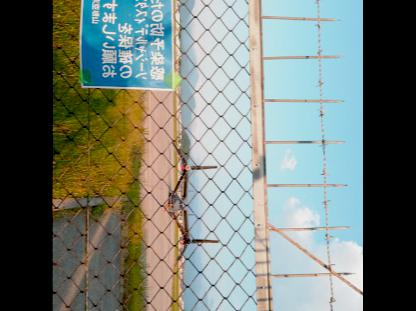Tornado: (168, 140, 219, 268)
